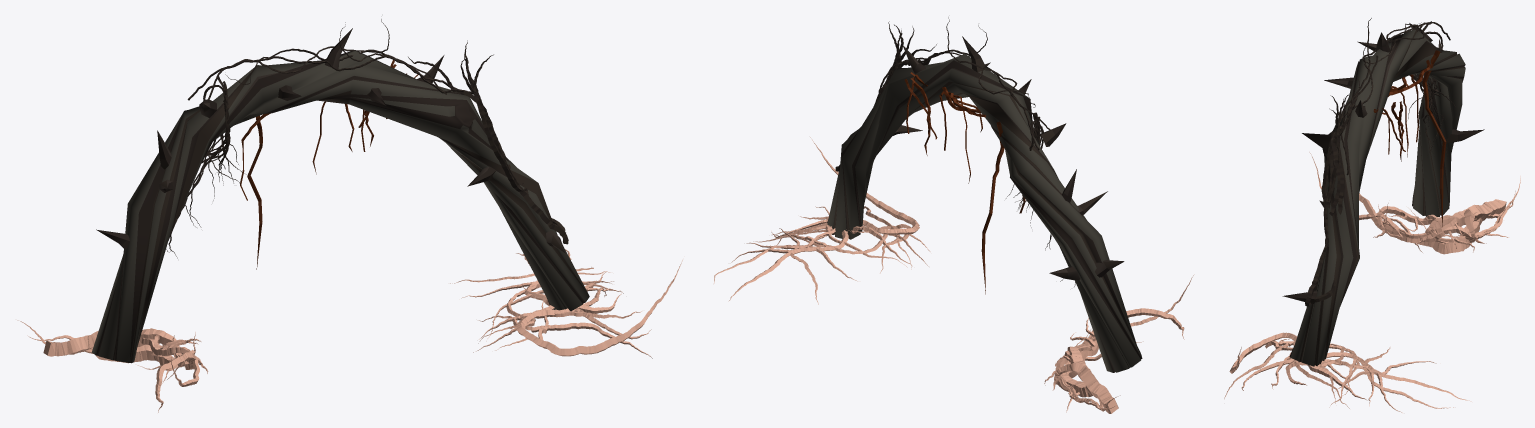
Rendered from root_spikes_02.fbx.
3 views of the same model, side by side, from view 1: azimuth 30°, elevation 25°; view 2: azimuth 150°, elevation 25°; view 3: azimuth 270°, elevation 25° (orthographic). The views are drawn at different scales.
Visible parts, largest first — view 1: root_spikes_02; view 2: root_spikes_02; view 3: root_spikes_02.
Part boxes in pixels (x1,y1,x2,y2): root_spikes_02: (17, 19, 682, 412); root_spikes_02: (714, 17, 1194, 413); root_spikes_02: (1224, 18, 1520, 412).
Size of the model in its own units: 1862 by 1195 by 1055.
